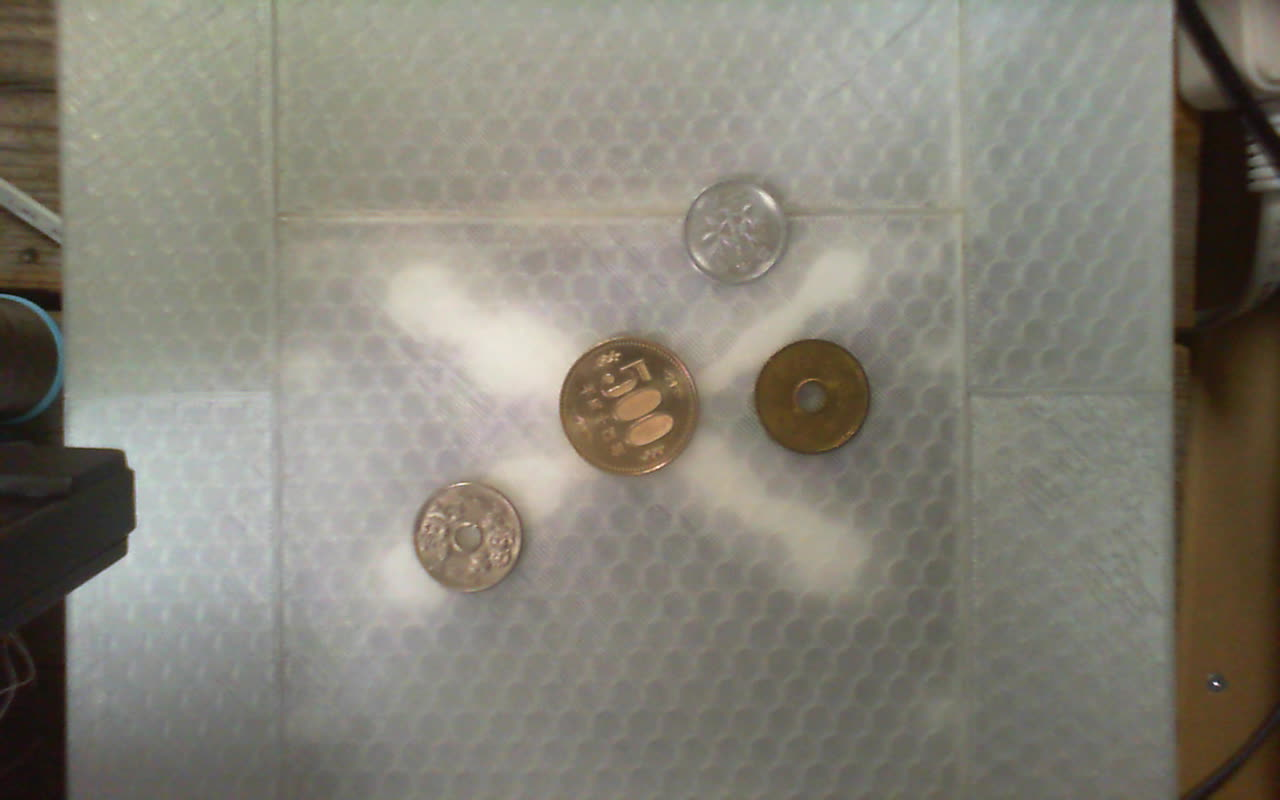1yen: (683, 179, 791, 286)
500yen: (560, 337, 700, 476)
50yen: (413, 482, 524, 594)
5yen: (755, 339, 870, 455)
